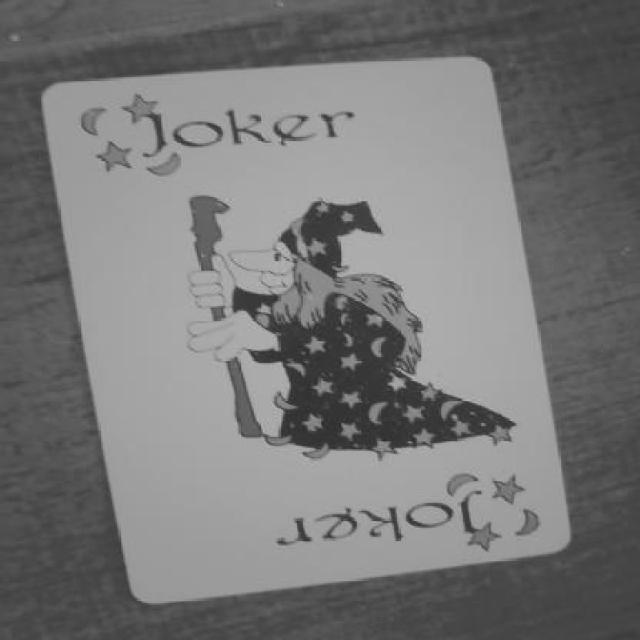BLACK JOKER: (66, 70, 379, 182), (261, 459, 556, 567)
